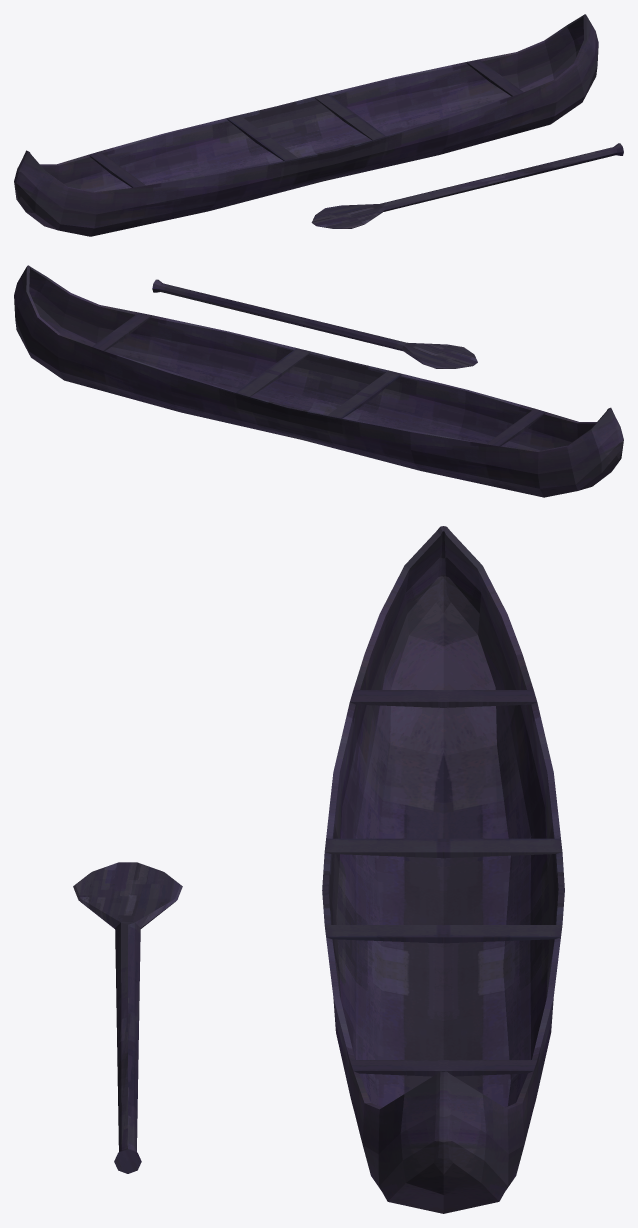
Rendered from canoe.fbx.
3 views of the same model, one above another, from view 1: azimuth 30°, elevation 25°; view 2: azimuth 150°, elevation 25°; view 3: azimuth 270°, elevation 25° (orthographic). The views are drawn at different scales.
Parts seen in each view (by area): view 1: Plane, Cylinder; view 2: Plane, Cylinder; view 3: Plane, Cylinder.
Boxes of the visible parts, <box> form: Plane: <box>14,14,598,236</box>; Cylinder: <box>311,143,623,228</box>; Plane: <box>14,265,623,497</box>; Cylinder: <box>152,279,477,368</box>; Plane: <box>322,526,564,1213</box>; Cylinder: <box>73,862,182,1173</box>.
Size of the model in its own units: 225 by 34.5 by 82.33.
Materials: 1 (1 with a texture image).
